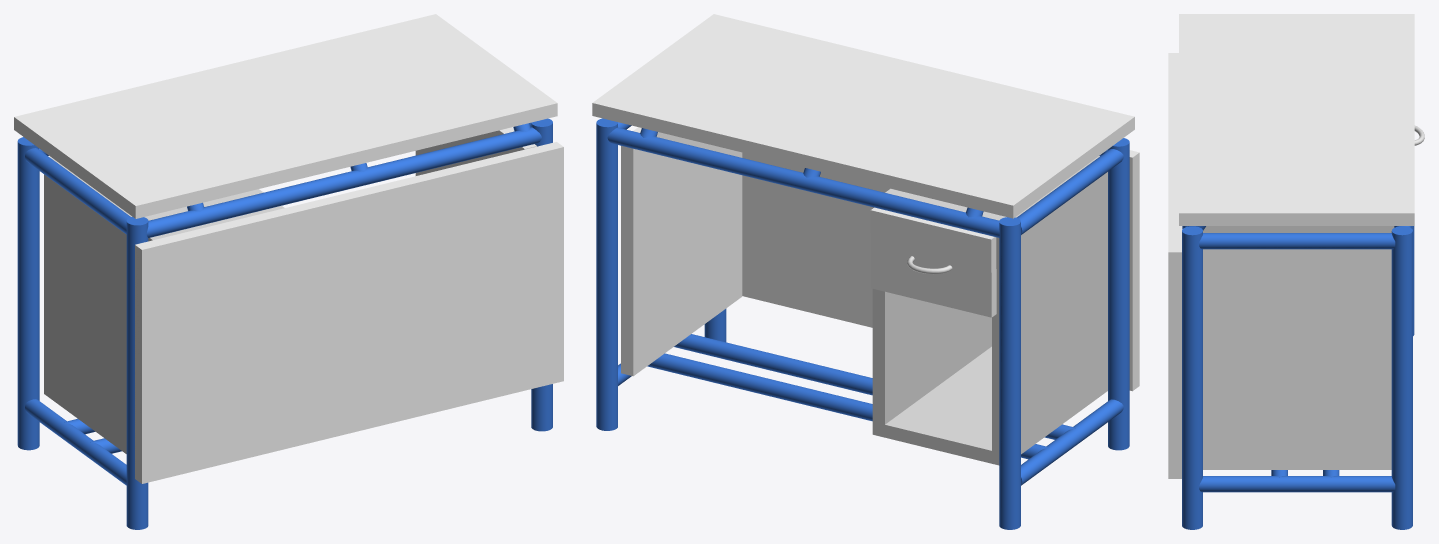
Rendered from teachersdesk.gltf.
3 views of the same model, side by side, from view 1: azimuth 30°, elevation 25°; view 2: azimuth 150°, elevation 25°; view 3: azimuth 270°, elevation 25° (orthographic). The views are drawn at different scales.
Parts seen in each view (by area): view 1: Node26, Node1, Node27, Node4, Node20, Node14, Node10, Node24, Node16, Node29, Node31; view 2: Node1, Node29, Node27, Node26, Node28, Node33, Node30, Node2, Node20, Node18, Node14, Node8 (+3 smaller); view 3: Node1, Node29, Node18, Node16, Node26, Node12, Node22, Node28.
Part boxes in pixels (x1,y1,x2,y2): Node26: (135,142,563,483); Node1: (14,14,557,218); Node27: (44,158,164,453); Node4: (146,127,541,237); Node20: (17,137,39,450); Node14: (126,216,148,529); Node10: (25,148,130,234); Node24: (25,399,126,485); Node16: (531,118,552,431); Node29: (415,127,536,175); Node31: (144,192,272,237); Node1: (592,14,1134,218); Node29: (621,127,742,376); Node27: (992,156,1107,465); Node26: (742,150,1139,391); Node28: (872,188,991,437); Node33: (870,207,996,317); Node30: (885,346,991,463); Node2: (607,127,999,237); Node20: (999,217,1020,529); Node18: (596,118,617,430); Node14: (1108,138,1129,450); Node8: (647,353,1048,459); Node1: (1179,14,1414,225); Node29: (1203,249,1391,469); Node18: (1391,226,1412,529); Node16: (1182,226,1202,529); Node26: (1168,53,1181,478); Node12: (1199,233,1395,249); Node22: (1199,476,1395,492); Node28: (1203,226,1394,232).
Size of the model in its own units: 4.01 by 2.96 by 2.18.
